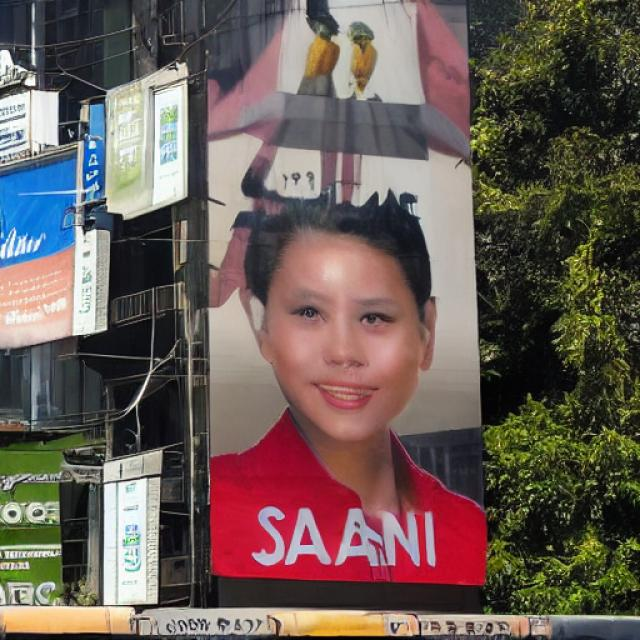Billboard: (200, 0, 491, 592)
